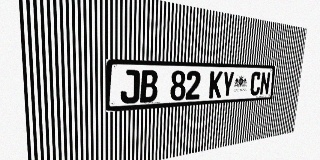2: (185, 71, 201, 100)
8: (170, 70, 186, 101)
B: (140, 70, 158, 103)
C: (249, 72, 261, 96)
J: (120, 70, 140, 104)
K: (209, 71, 223, 98)
N: (259, 72, 271, 95)
Y: (221, 71, 235, 98)
